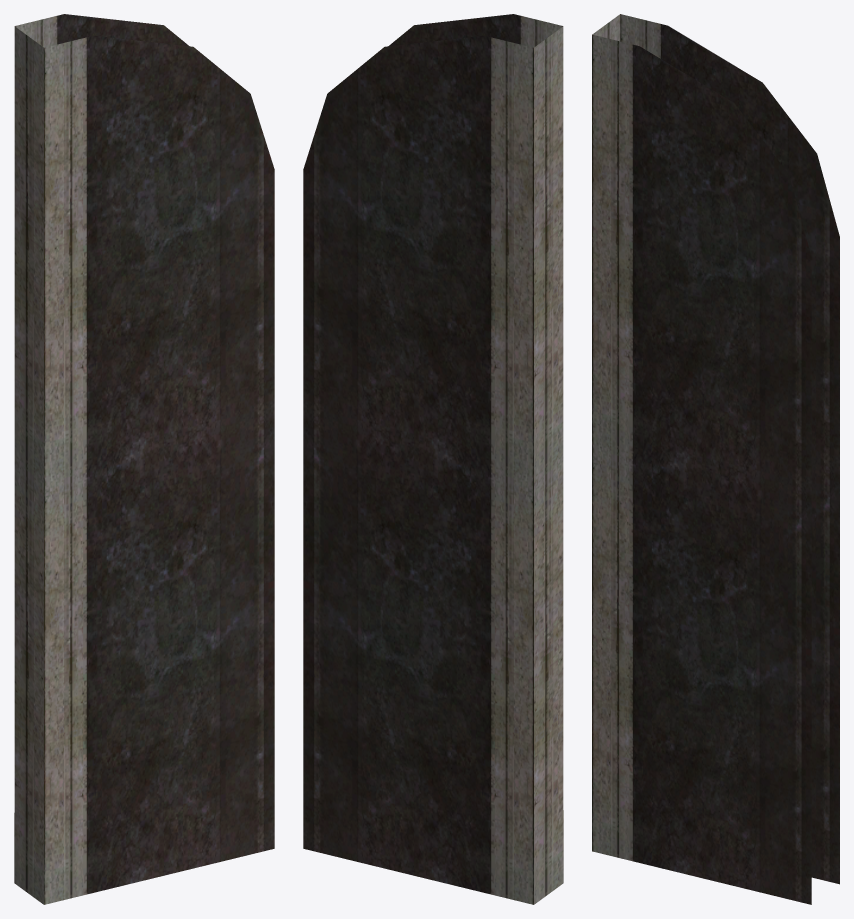
File: ply_nboo_capitol_door_s01.fbx
3 views of the same model, side by side, from view 1: azimuth 30°, elevation 25°; view 2: azimuth 150°, elevation 25°; view 3: azimuth 330°, elevation 25° (orthographic). The views are drawn at different scales.
Visible parts, largest first — view 1: mesh_node; view 2: mesh_node; view 3: mesh_node.
Boxes of the visible parts, bbox=[...] form: mesh_node: bbox=[14, 14, 274, 904]; mesh_node: bbox=[303, 14, 563, 904]; mesh_node: bbox=[592, 14, 839, 904].
Size of the model in its own units: 0.9 by 3.2 by 0.2.
1 material, 1 textured.
